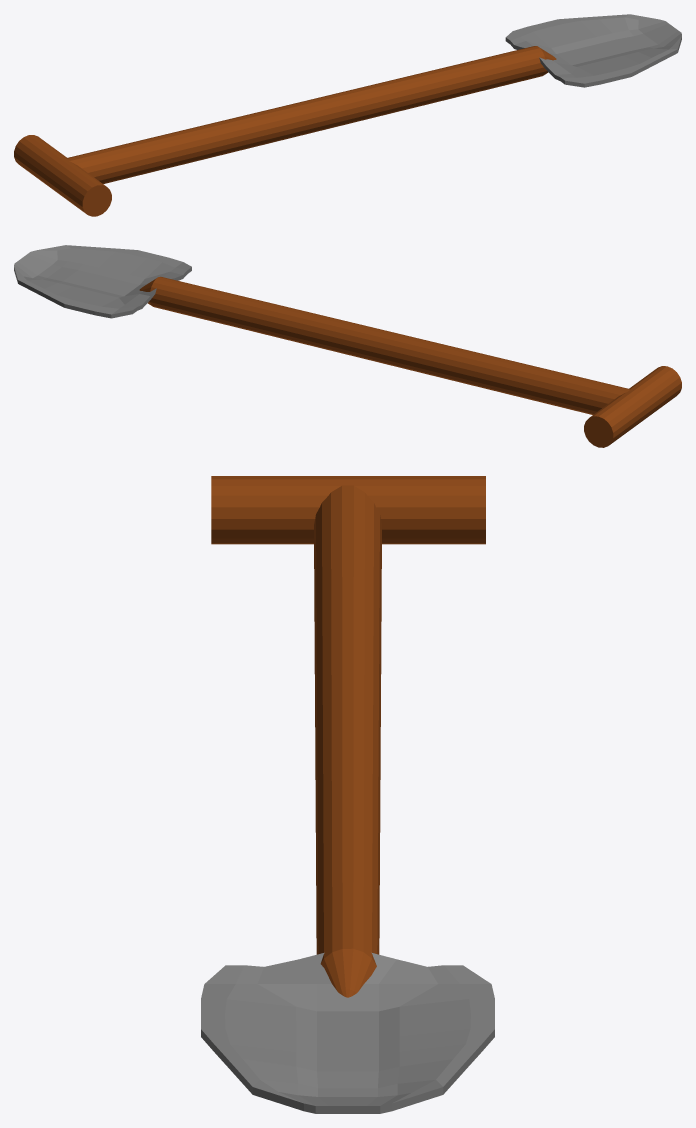
Rendered from Newshowel.fbx.
3 renders of one model, top to bottom at view 1: azimuth 30°, elevation 25°; view 2: azimuth 150°, elevation 25°; view 3: azimuth 270°, elevation 25°, orthographic. The views are drawn at different scales.
Parts seen in each view (by area): view 1: Cylinder, Grid; view 2: Cylinder, Grid; view 3: Cylinder, Grid.
Boxes of the visible parts, x1,y1,x2,y2 form: Cylinder: (14,46,556,216); Grid: (505,14,681,87); Cylinder: (139,276,681,447); Grid: (14,245,191,318); Cylinder: (211,476,485,997); Grid: (201,952,494,1113).
Size of the model in its own units: 4222 by 202 by 860.
